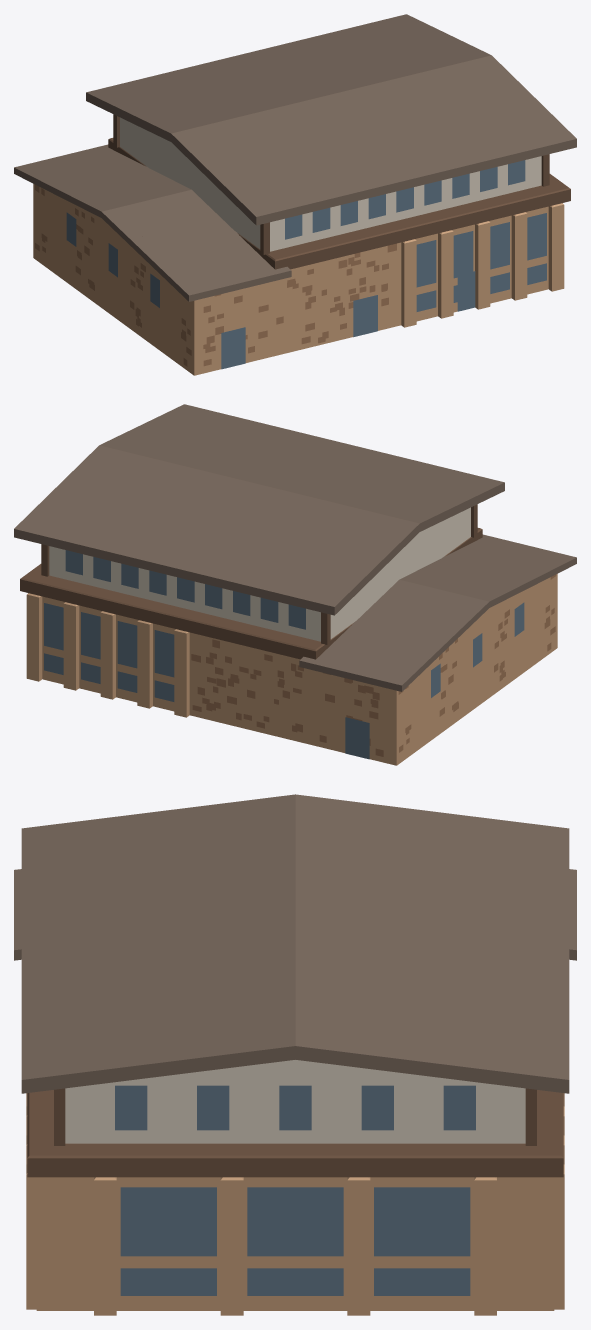
The model's file is grand-canyon-power-house.glb.
The picture shows the model from 3 angles, top to bottom: view 1: azimuth 30°, elevation 25°; view 2: azimuth 150°, elevation 25°; view 3: azimuth 270°, elevation 25°; orthographic projection. The views are drawn at different scales.
Visible parts, largest first — view 1: Grand Canyon Power House; view 2: Grand Canyon Power House; view 3: Grand Canyon Power House.
Boxes of the visible parts, x1=… form: Grand Canyon Power House: x1=14, y1=14, x2=576, y2=375; Grand Canyon Power House: x1=14, y1=404, x2=576, y2=765; Grand Canyon Power House: x1=14, y1=794, x2=576, y2=1315.
Bounding box in the file's own units: 38.1 × 15.8 × 29.6.
